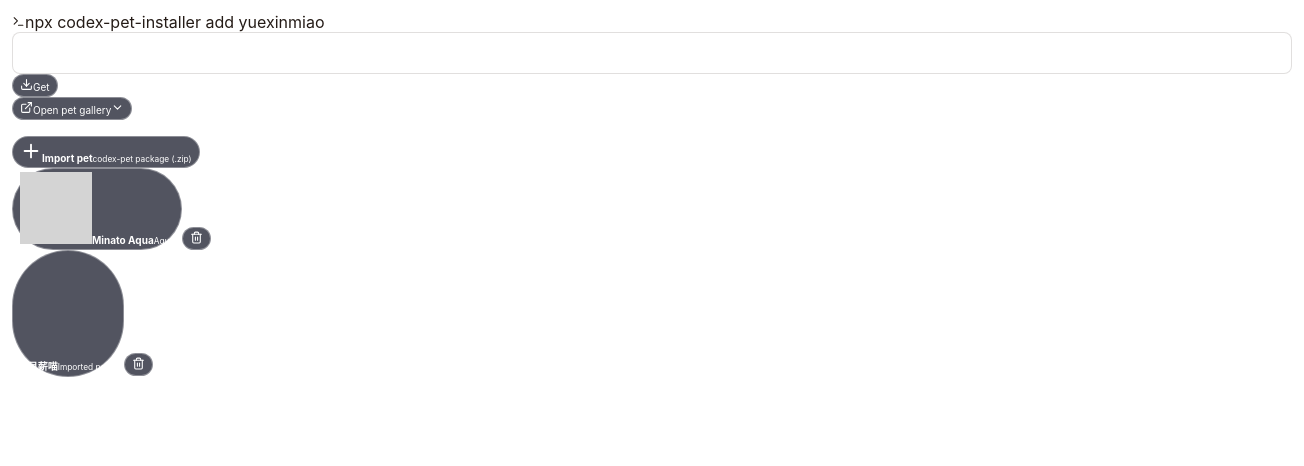
Scenario: PetThemeGrid removal › preserves the selected theme when removal fails and surfaces the error
Click the 2nd button named "Remove".
click(138, 364)  # box [124, 353, 153, 376]
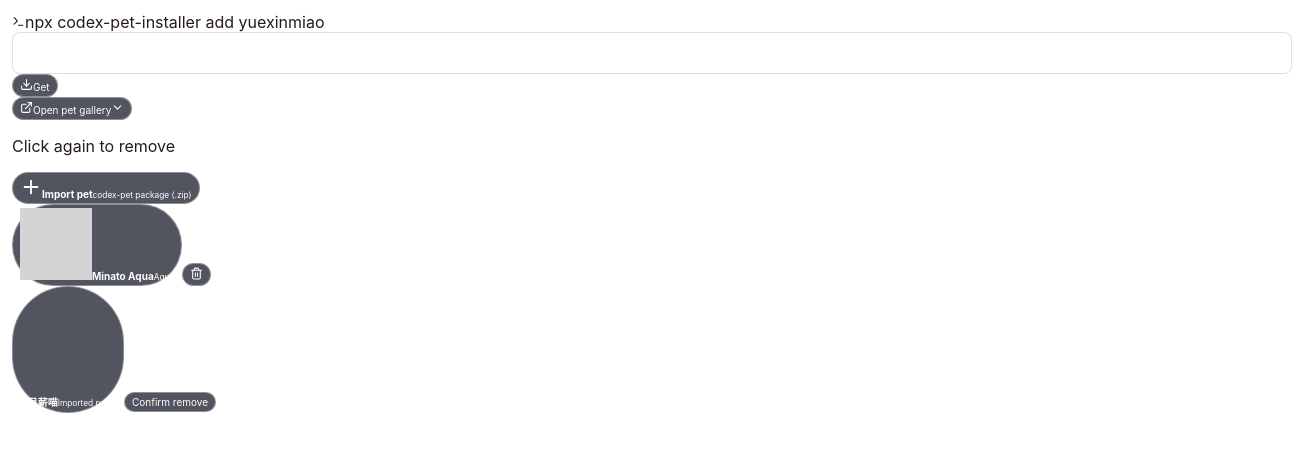
Click the button "Confirm remove".
click(170, 402)  # box [124, 392, 216, 412]
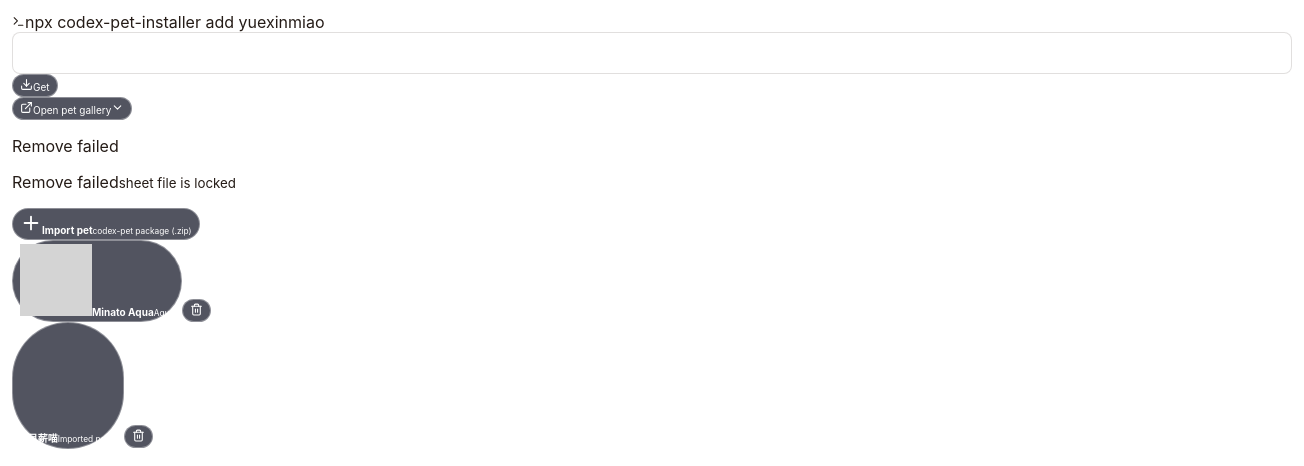
Now the text "sheet file is locked" is shown, box [119, 175, 236, 191]
